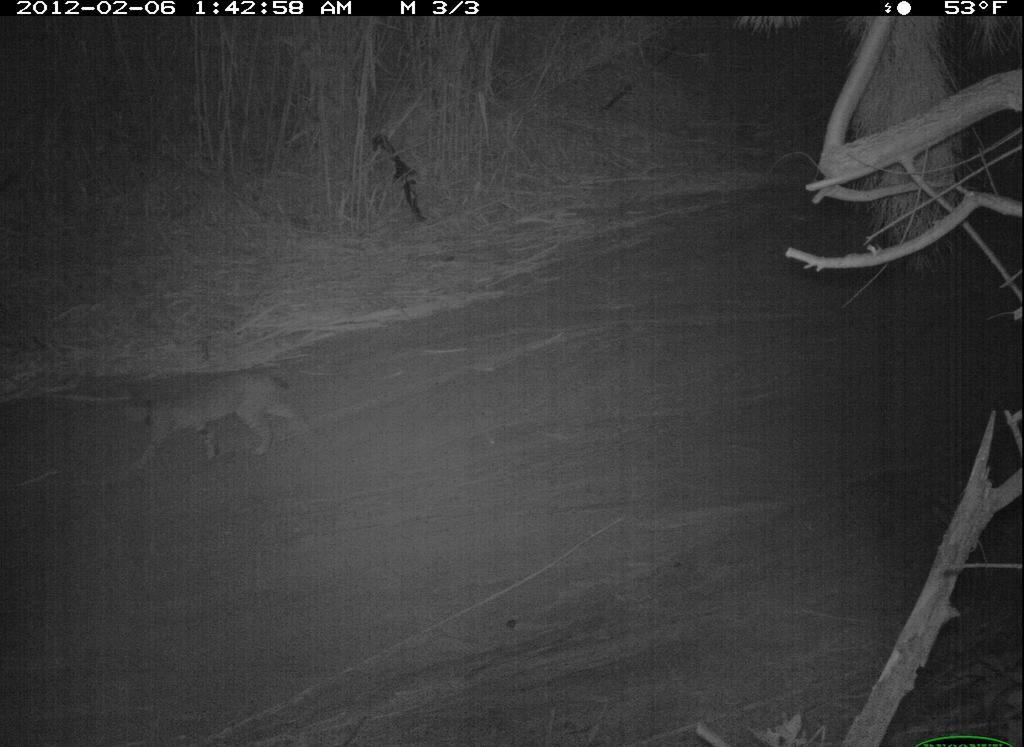bobcat: (127, 353, 315, 482)
